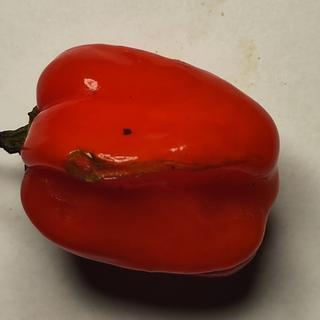Defect: (61, 145, 111, 192)
Fly-bites: (120, 122, 135, 141)
